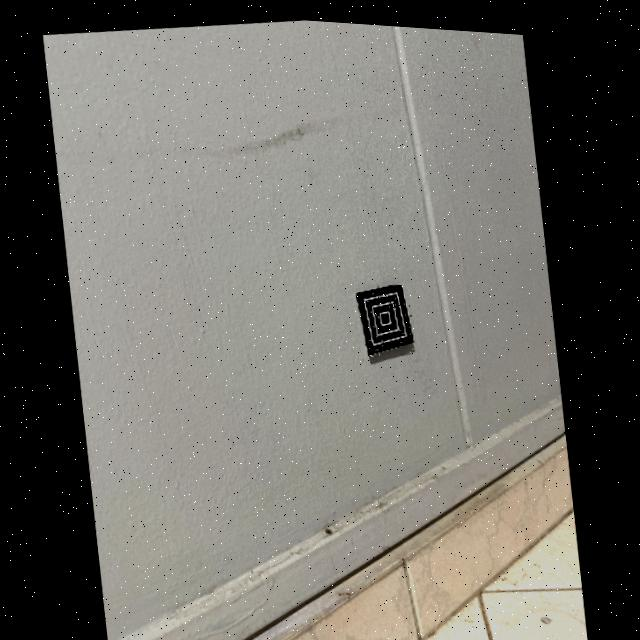BULLSEYE: (357, 279, 416, 350)
